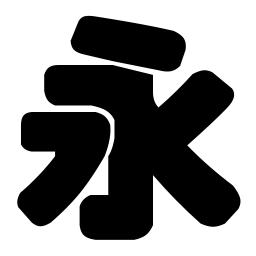D: (69, 14, 113, 54)
HSZ: (99, 63, 154, 110)
Hs: (42, 62, 86, 106)
Ne: (191, 181, 243, 228)
PNc: (150, 116, 192, 163)
PZe: (16, 187, 62, 227)
Ps: (191, 68, 236, 109)
SG: (77, 193, 157, 242)
Sm: (109, 157, 145, 188)
TPZ: (52, 114, 104, 160)
Ts: (19, 110, 44, 154)
